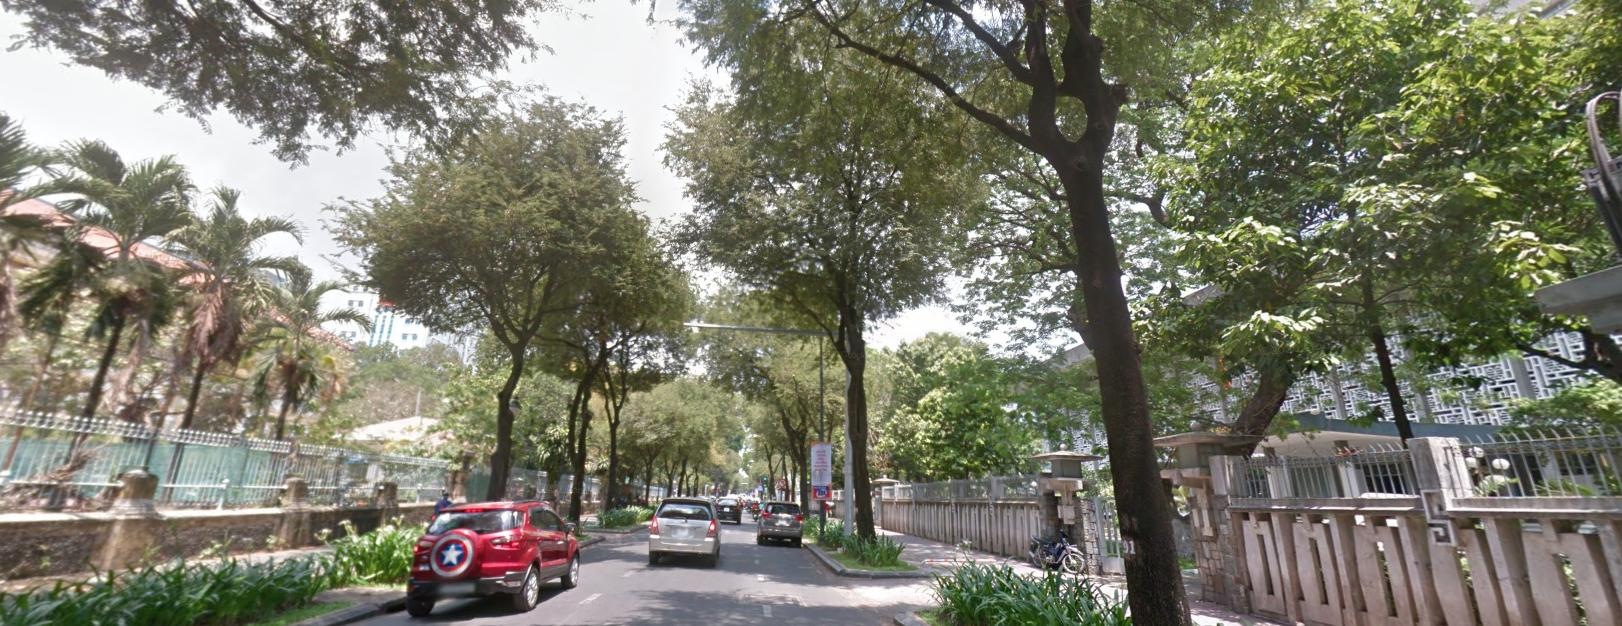Cam re: (776, 476, 787, 486)
